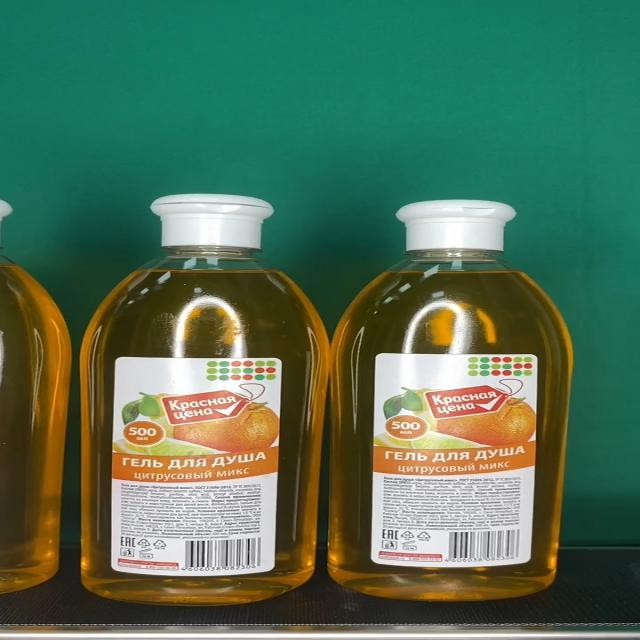Bottle: (80, 193, 328, 604), (329, 200, 574, 600)
Cap: (394, 201, 519, 254), (148, 194, 273, 246)
